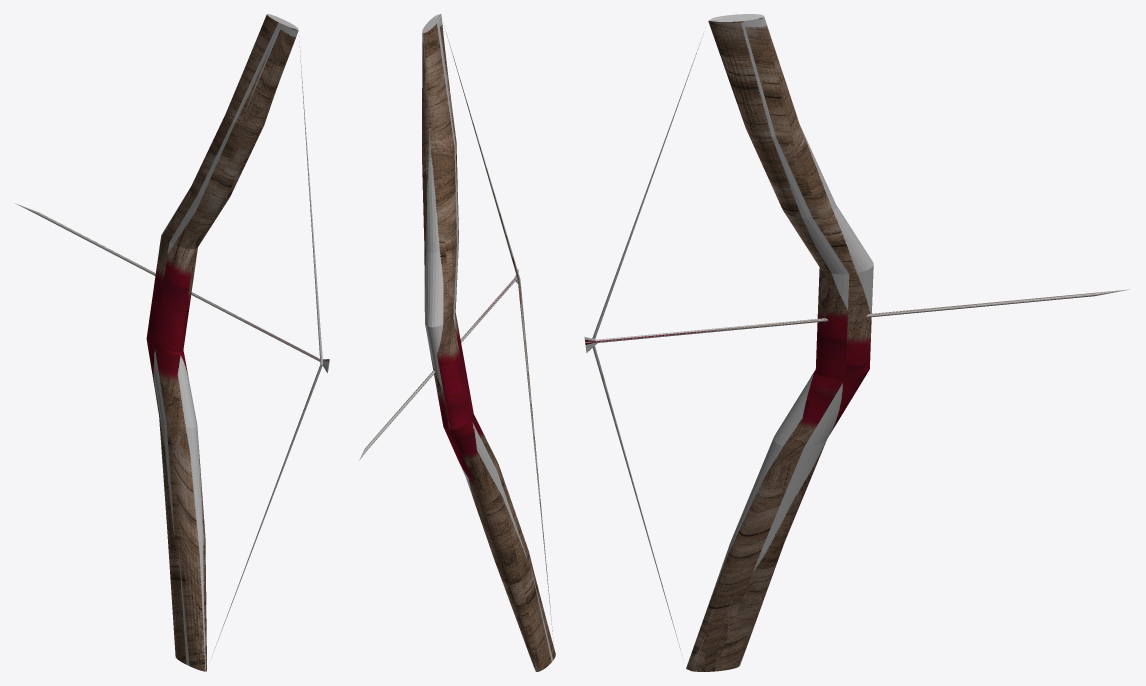
File: Arco5.obj
3 renders of one model, left to right at view 1: azimuth 30°, elevation 25°; view 2: azimuth 150°, elevation 25°; view 3: azimuth 270°, elevation 25°, orthographic. The views are drawn at different scales.
Parts seen in each view (by area): view 1: Cilindro; view 2: Cilindro; view 3: Cilindro.
Boxes of the visible parts, x1=… form: Cilindro: x1=15, y1=14, x2=329, y2=671; Cilindro: x1=359, y1=14, x2=555, y2=671; Cilindro: x1=584, y1=14, x2=1129, y2=671.
Bounding box in the file's own units: 0.1886 × 0.9705 × 0.6791.
Materials: 1 (1 with a texture image).
